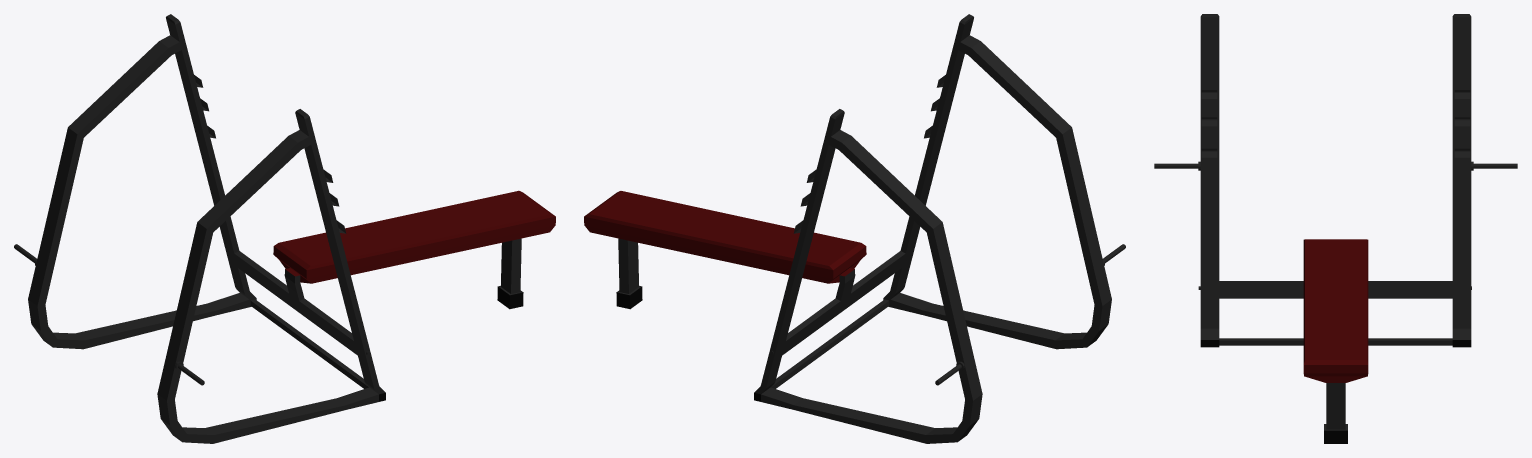
File: BenchPress.005.fbx
3 views of the same model, side by side, from view 1: azimuth 30°, elevation 25°; view 2: azimuth 150°, elevation 25°; view 3: azimuth 270°, elevation 25° (orthographic). The views are drawn at different scales.
Parts seen in each view (by area): view 1: BenchPress.005; view 2: BenchPress.005; view 3: BenchPress.005.
Part boxes in pixels (<box>): BenchPress.005: <box>14,14,555,443</box>; BenchPress.005: <box>584,14,1125,443</box>; BenchPress.005: <box>1154,14,1517,443</box>.
Bounding box in the file's own units: 238 × 157 × 174.
